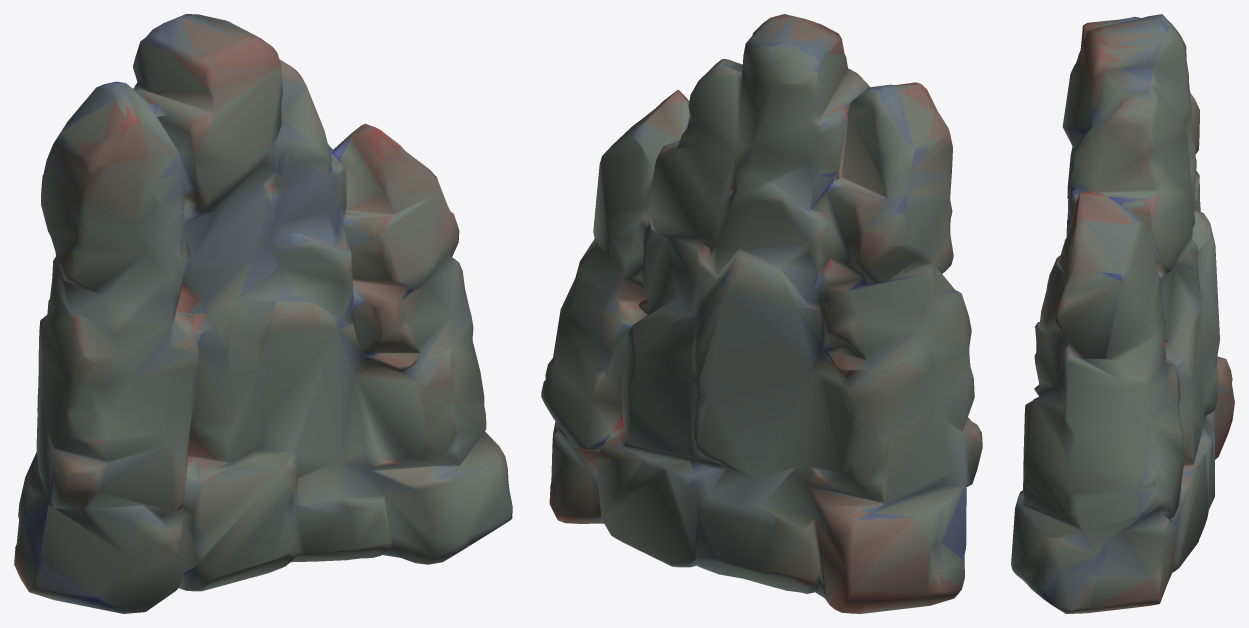
Rendered from rock_spire_clump_01.fbx.
3 renders of one model, left to right at view 1: azimuth 30°, elevation 25°; view 2: azimuth 150°, elevation 25°; view 3: azimuth 270°, elevation 25°, orthographic. The views are drawn at different scales.
Parts seen in each view (by area): view 1: Rock_Spire_Clump; view 2: Rock_Spire_Clump; view 3: Rock_Spire_Clump.
Boxes of the visible parts, bbox=[...] form: Rock_Spire_Clump: bbox=[14, 14, 512, 613]; Rock_Spire_Clump: bbox=[541, 14, 982, 613]; Rock_Spire_Clump: bbox=[1011, 14, 1234, 613].
Bounding box in the file's own units: 600 × 710 × 296.
